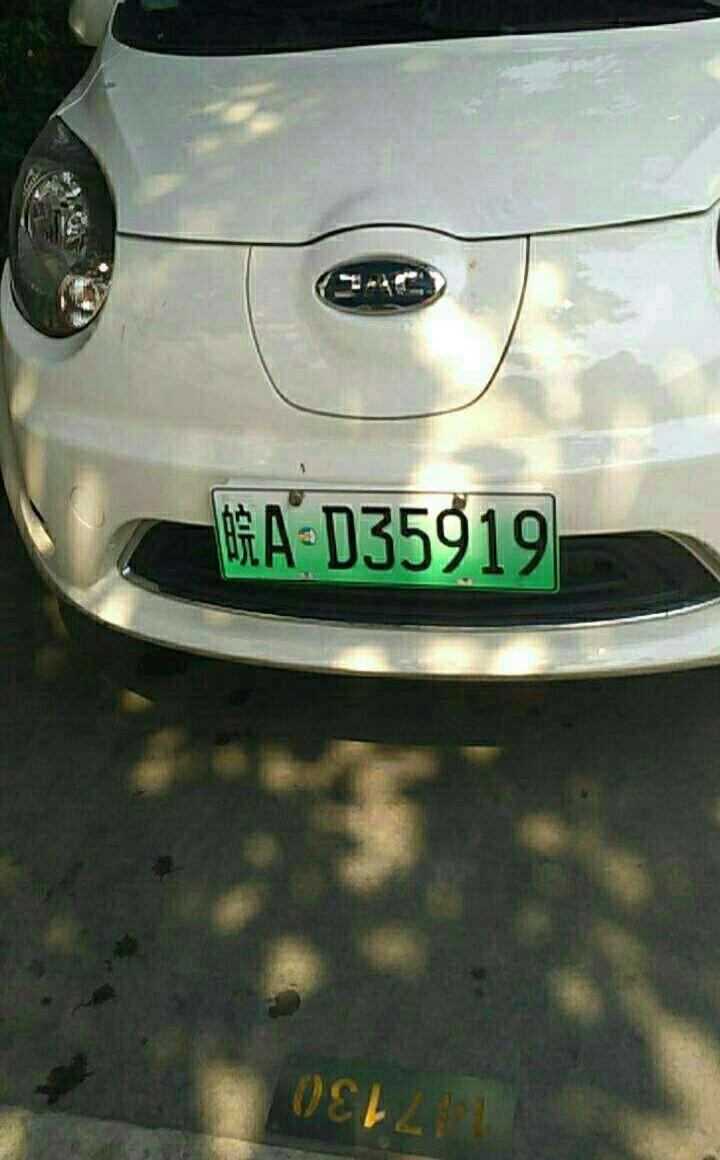car_id: (203, 485, 552, 588)
